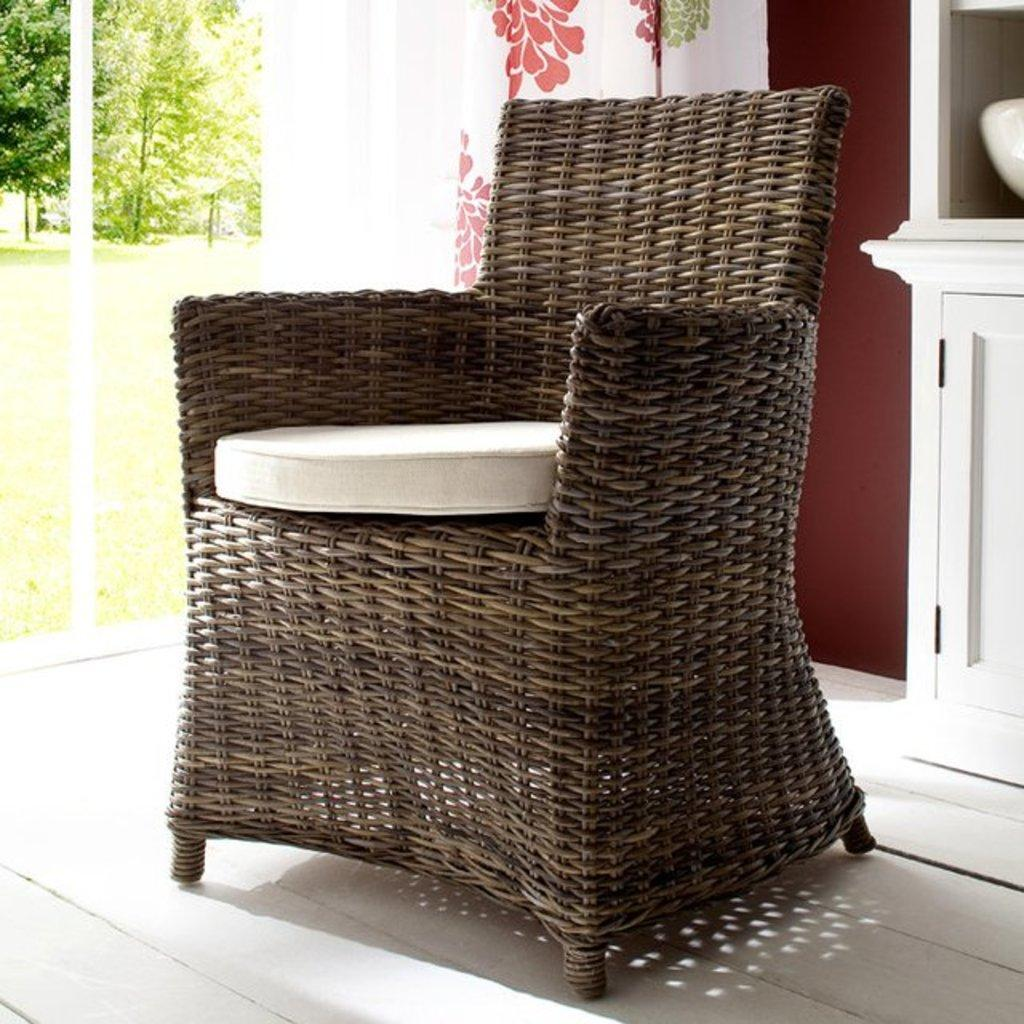Chair: (168, 128, 902, 974)
